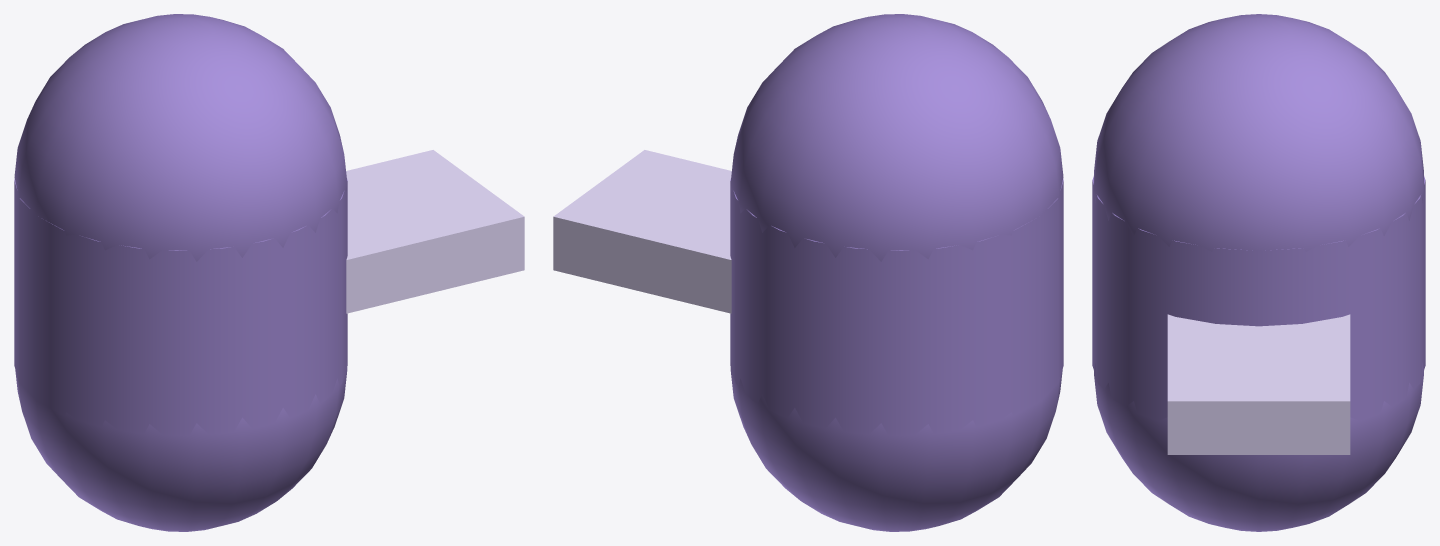
Rendered from flyer-shape-clamp-capsule-v1.glb.
3 views of the same model, side by side, from view 1: azimuth 30°, elevation 25°; view 2: azimuth 150°, elevation 25°; view 3: azimuth 270°, elevation 25° (orthographic).
Visible parts, largest first — view 1: Clamp Capsule; view 2: Clamp Capsule; view 3: Clamp Capsule.
Boxes of the visible parts, x1,y1,x2,y2 form: Clamp Capsule: (14,14,524,531); Clamp Capsule: (553,14,1063,531); Clamp Capsule: (1092,14,1425,531).
Size of the model in its own units: 1.9 by 2 by 1.24.
